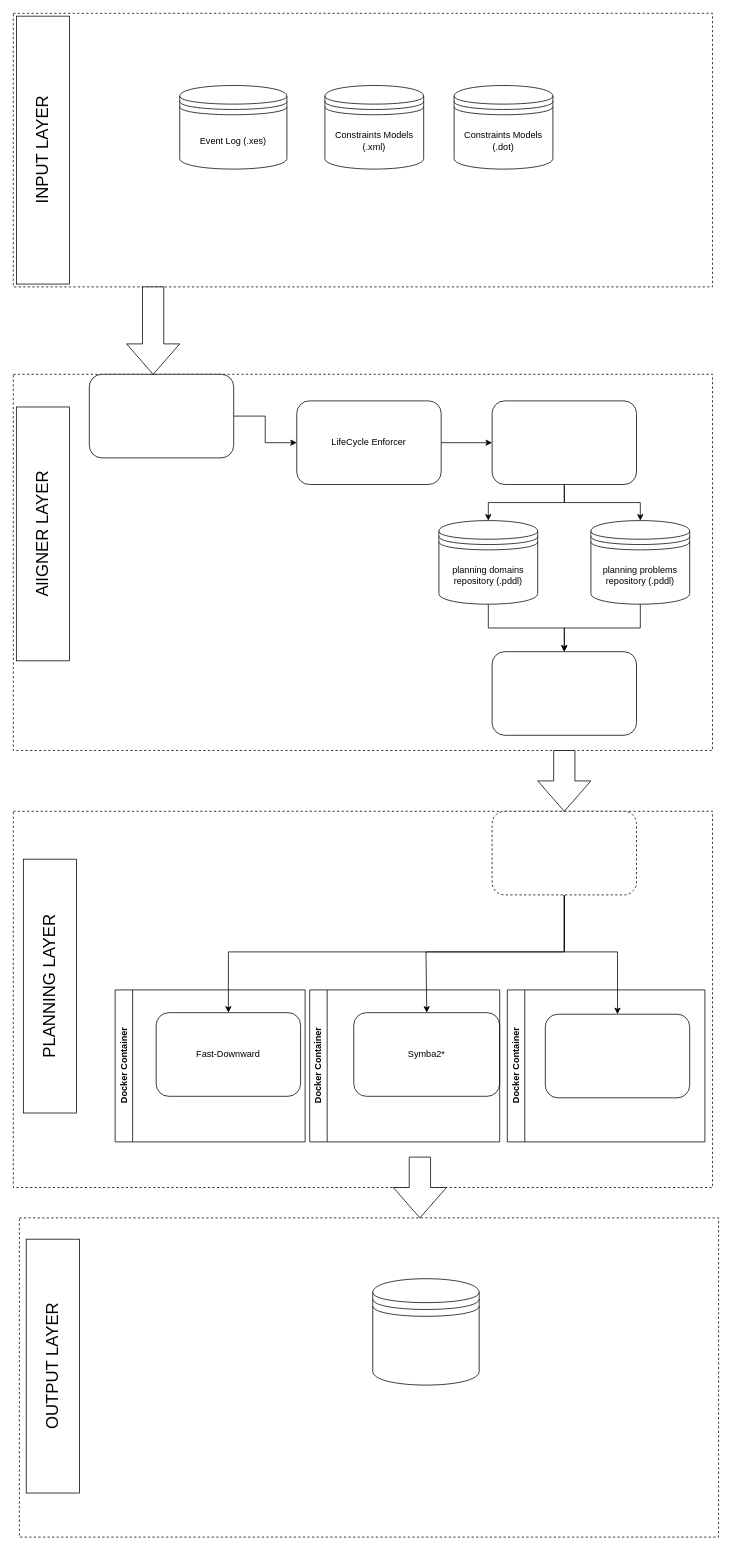
Some shapes in this 732 by 1556 pixel diagram are drawn without their labels. The centre of each missing label's shape, as x and y in pixels:
Generator: point 563,442
Loader: point 161,416
Other Planner: point 617,1055
Output Plans Repository: point 425,1331
Runner: point 563,693
«interface» State-Of-The-Art Planner: point 563,853
